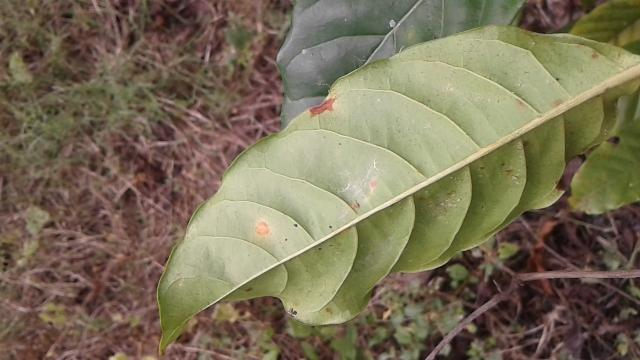red_spider_mite: (156, 29, 640, 354)
